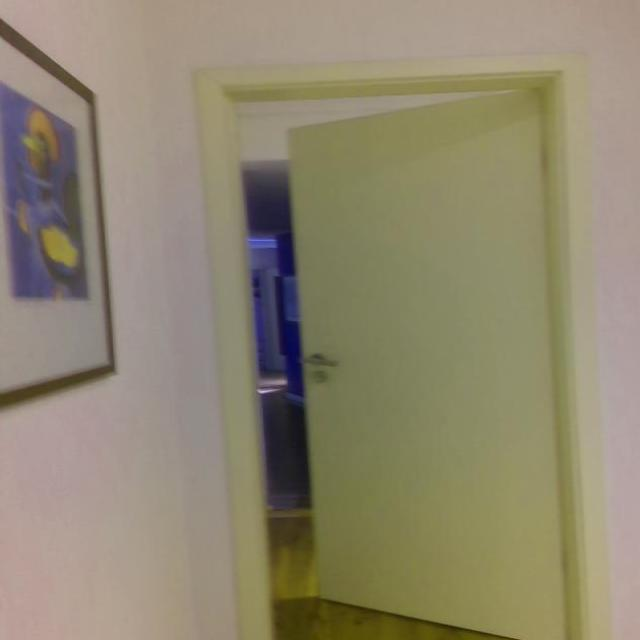Door: (285, 85, 570, 638)
